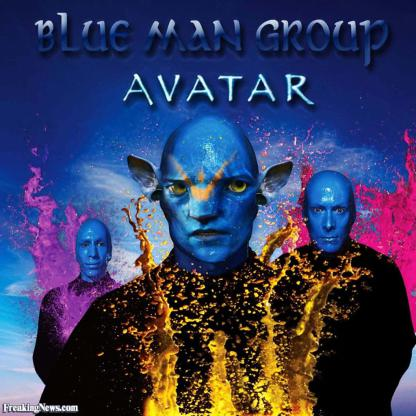face: (164, 136, 260, 262), (306, 183, 353, 251), (78, 228, 108, 276)
